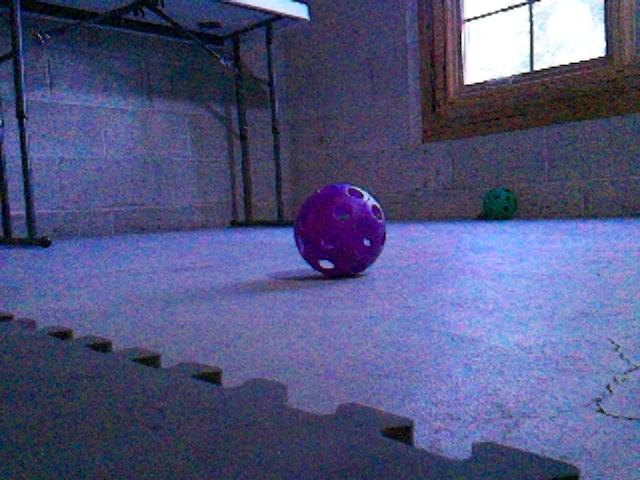Green: (482, 187, 517, 219)
Purple: (289, 180, 389, 279)
